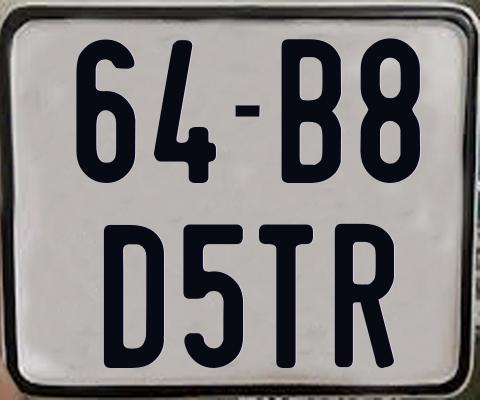4: (151, 37, 219, 183)
5: (183, 221, 247, 365)
6: (76, 36, 139, 185)
8: (358, 36, 418, 181)
B: (280, 38, 340, 182)
D: (104, 224, 167, 372)
R: (335, 221, 394, 369)
T: (257, 221, 315, 366)
